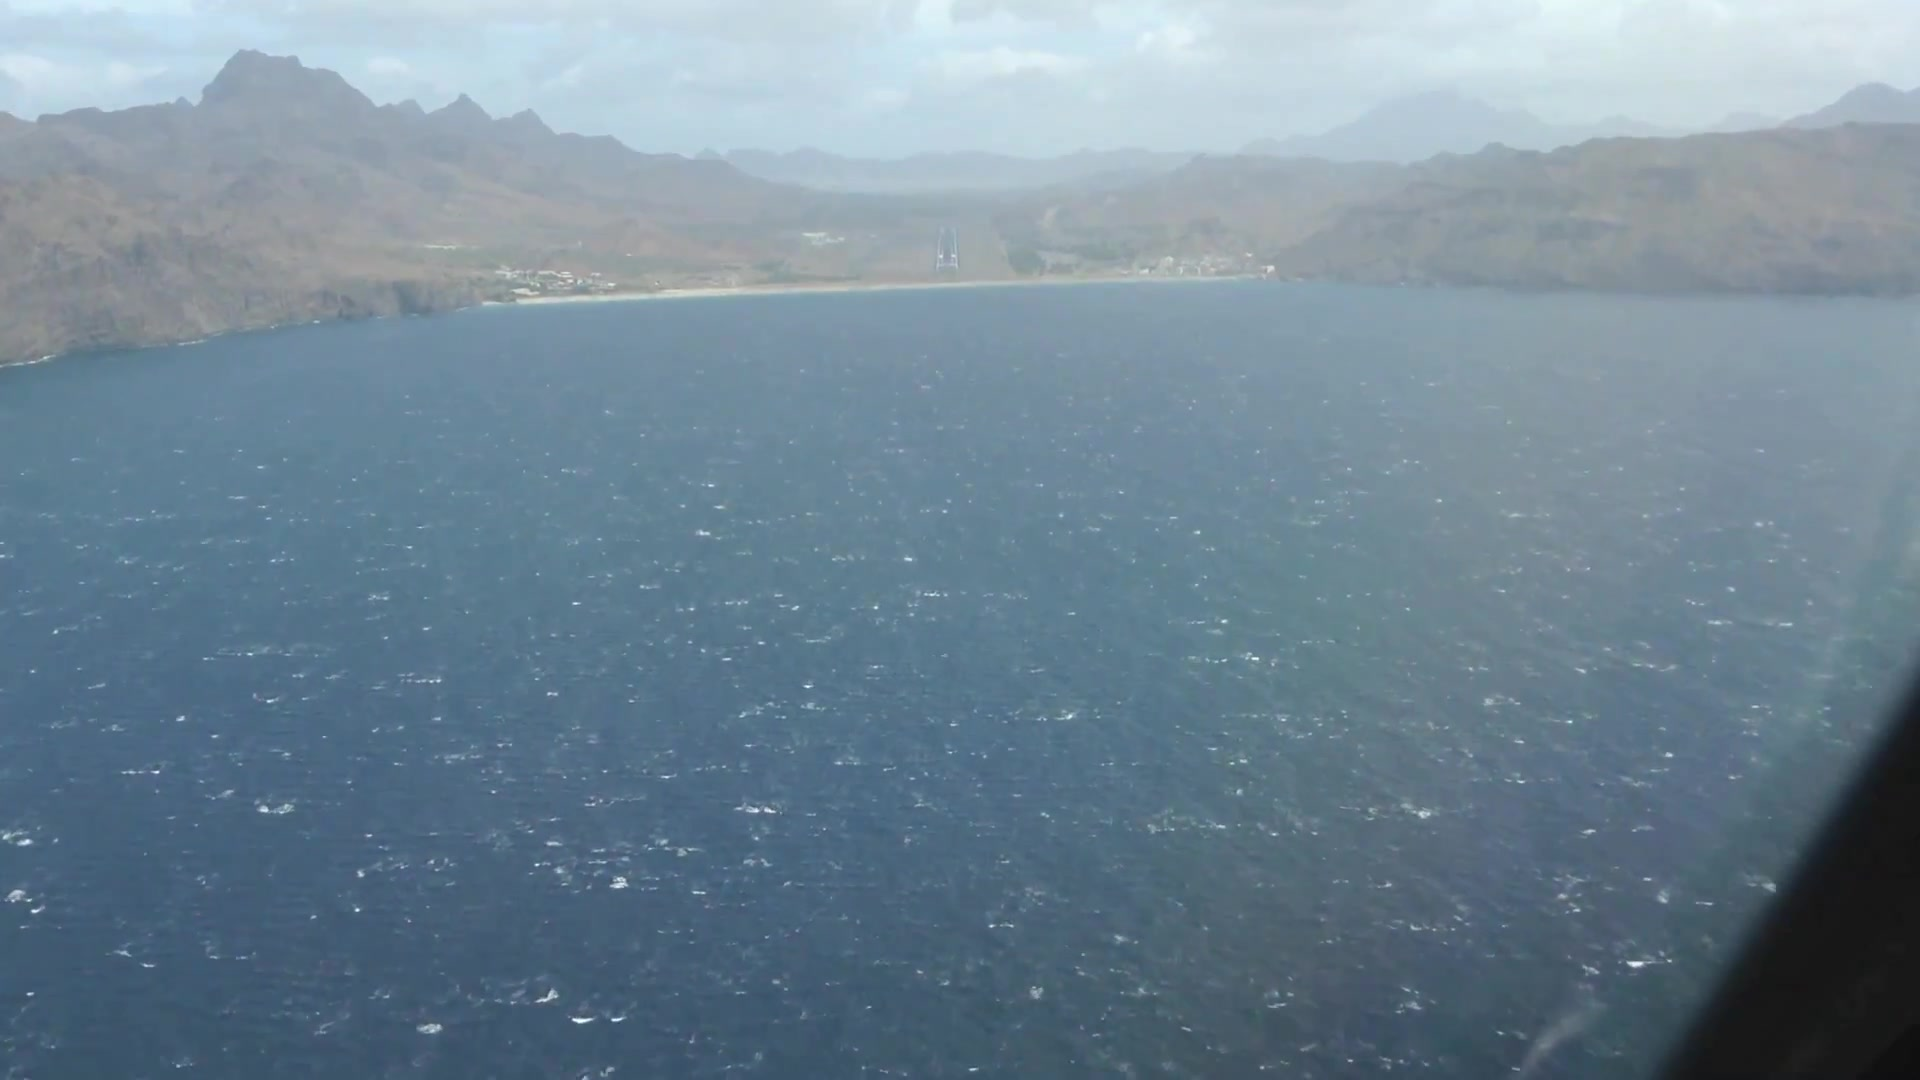runway: (935, 225, 959, 276)
